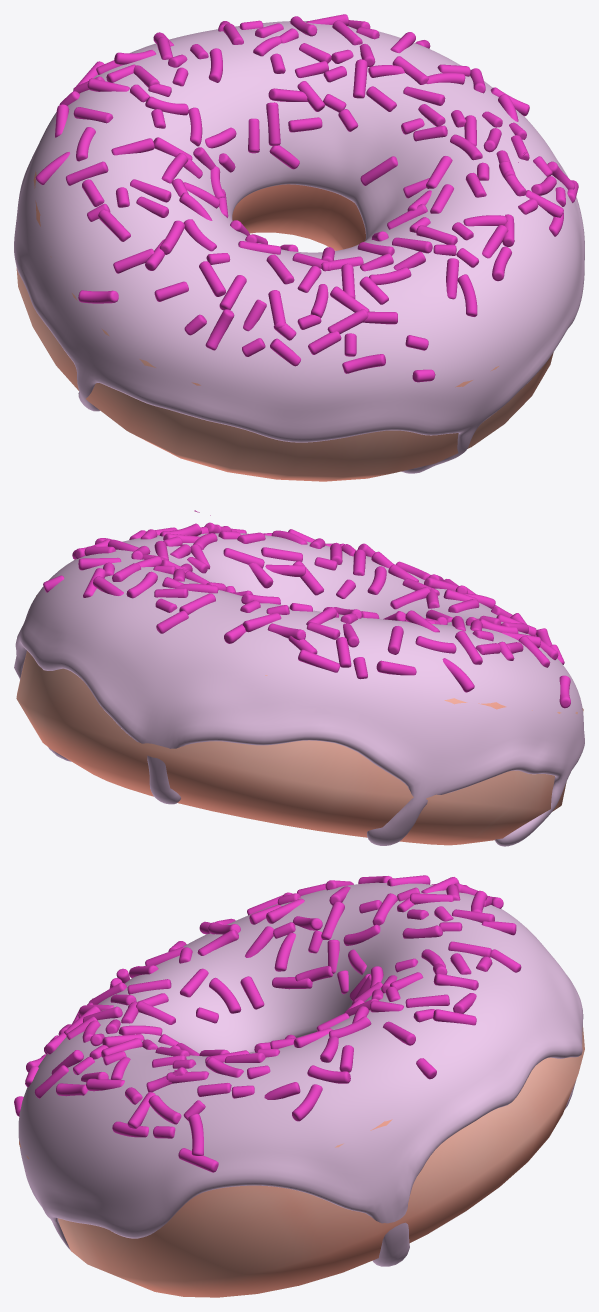
File: donut.glb
The picture shows the model from 3 angles, top to bottom: view 1: azimuth 30°, elevation 25°; view 2: azimuth 150°, elevation 25°; view 3: azimuth 270°, elevation 25°; orthographic projection. The views are drawn at different scales.
Visible parts, largest first — view 1: Icing.001, Donut.001; view 2: Icing.001, Donut.001, Cylinder.032, Cylinder.134; view 3: Icing.001, Donut.001.
Part boxes in pixels (bbox=[...]): Icing.001: bbox=[14, 21, 584, 473]; Donut.001: bbox=[16, 171, 553, 481]; Icing.001: bbox=[14, 533, 584, 846]; Donut.001: bbox=[16, 595, 583, 845]; Cylinder.032: bbox=[298, 649, 340, 672]; Cylinder.134: bbox=[376, 660, 416, 675]; Icing.001: bbox=[18, 882, 583, 1266]; Donut.001: bbox=[19, 1027, 584, 1297].
Size of the model in its own units: 10.25 by 6.32 by 9.98.
3 materials, 1 textured.
